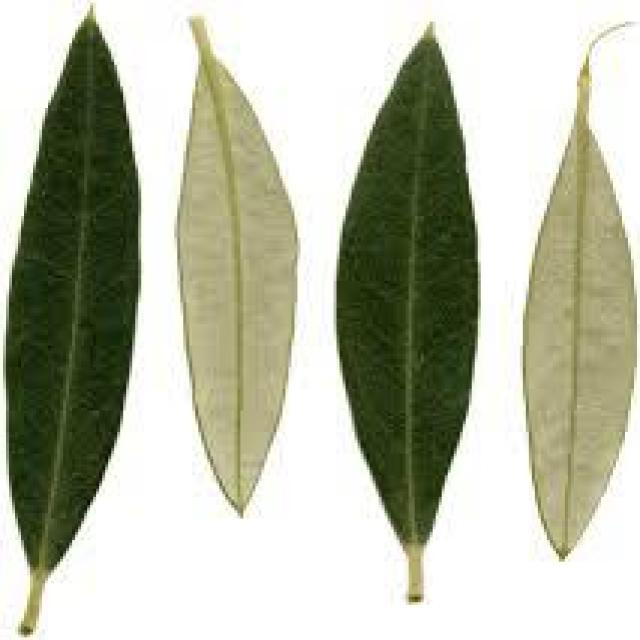Healthy: (337, 38, 475, 556), (9, 16, 135, 581), (177, 22, 297, 513), (529, 24, 634, 556)
